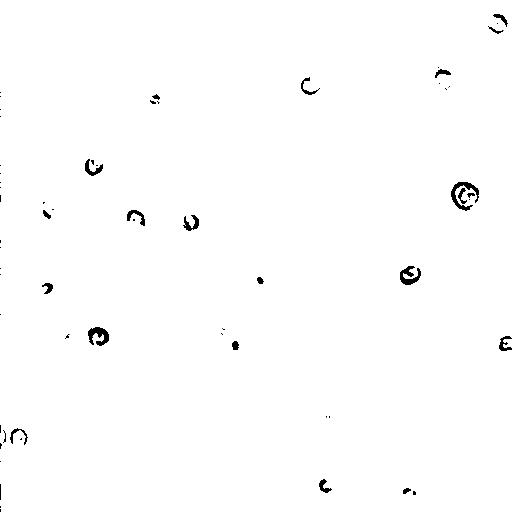micro-algae: (37, 192, 68, 225), (429, 60, 458, 93), (450, 181, 481, 211), (57, 329, 89, 353), (247, 266, 271, 294), (83, 323, 110, 347), (485, 11, 511, 35), (397, 481, 422, 505), (227, 330, 248, 355), (83, 155, 106, 177), (125, 208, 147, 231), (179, 211, 201, 233), (402, 264, 423, 285), (300, 73, 320, 95), (11, 426, 27, 449), (34, 278, 53, 295), (495, 334, 511, 353), (317, 476, 334, 493), (1, 425, 7, 446)
